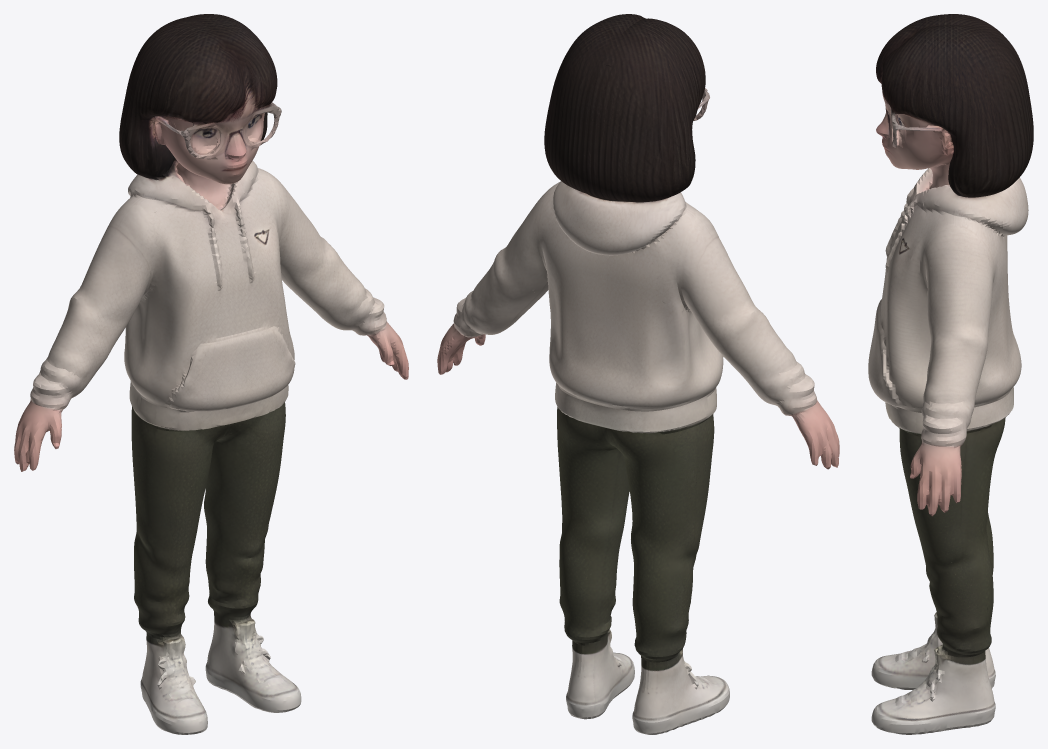
The model's file is annomotion-200.glb.
The picture shows the model from 3 angles, left to right: view 1: azimuth 30°, elevation 25°; view 2: azimuth 150°, elevation 25°; view 3: azimuth 270°, elevation 25°; orthographic projection.
Visible parts, largest first — view 1: model; view 2: model; view 3: model.
Part boxes in pixels (x1,y1,x2,y2): model: (14,14,408,734); model: (437,14,839,734); model: (868,14,1033,734).
Bounding box in the file's own units: 1.15 × 1.91 × 0.4214.
1 material, 1 textured.
